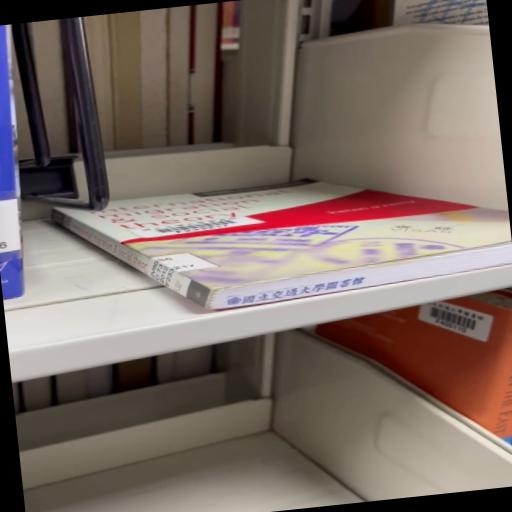flat: (54, 180, 512, 310)
